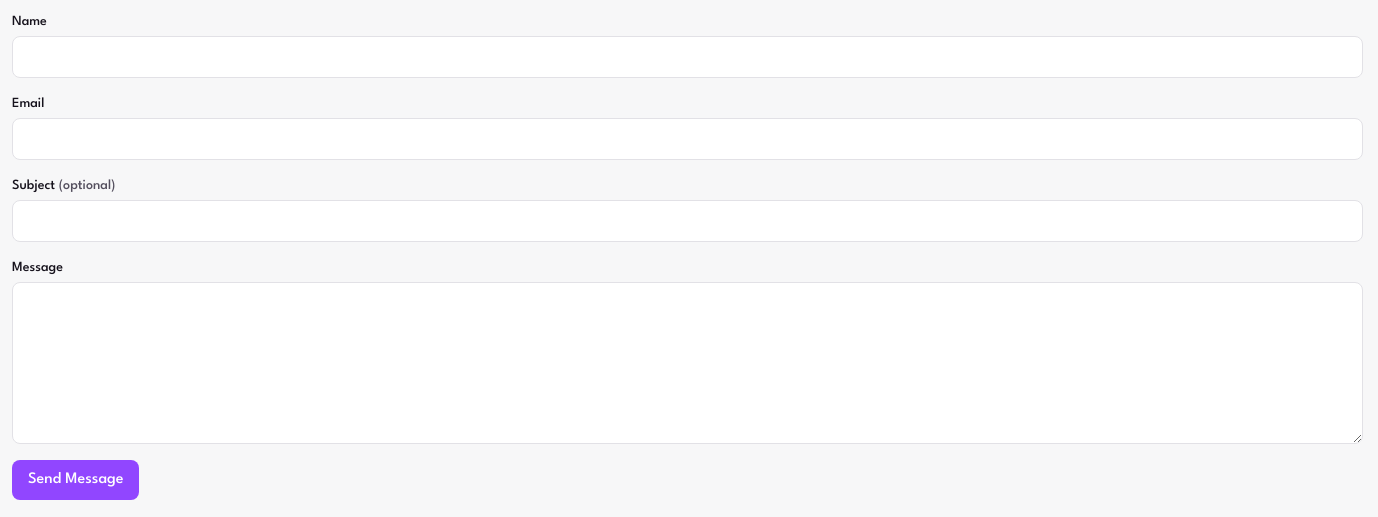
Scenario: ContactForm › shows 'Sending…', disables the button, and does NOT dim it via opacity while the submission is pending
Type "Ash Ketchum" into the field labelled "Name" at (688, 57), box [12,36,1363,78]
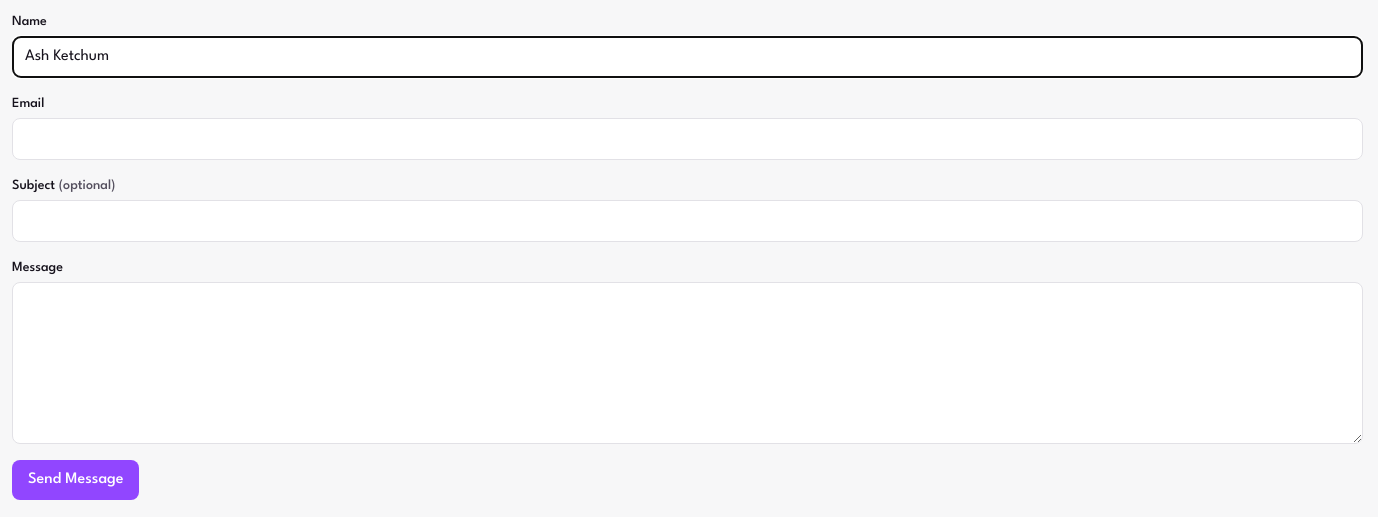
Type "ash@example.com" into the field labelled "Email" at (688, 139), box [12,118,1363,160]
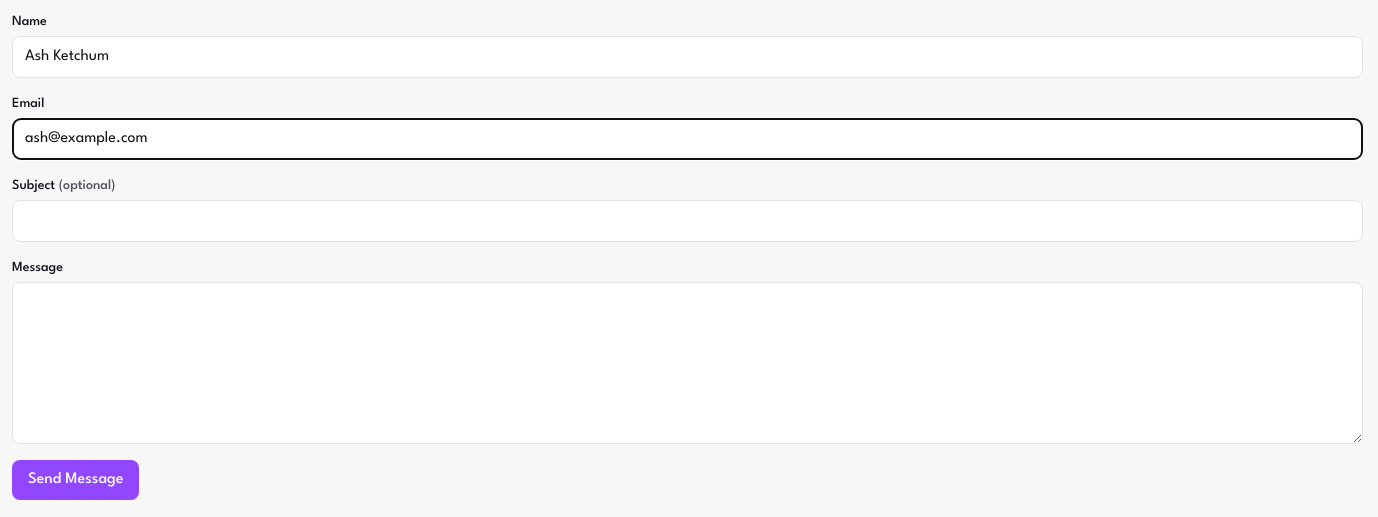
Type "I would like to buy this card, please let me know." into the text box labelled "Message" at (688, 363), box [12,282,1363,444]
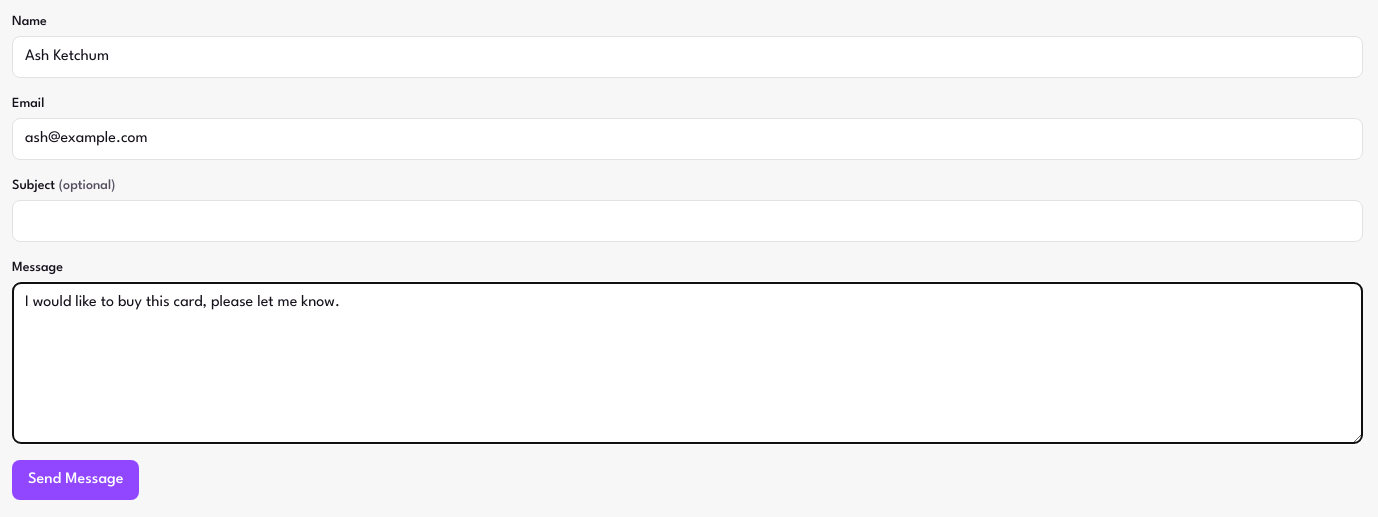
Click the button "Send Message" at (76, 480), box [12,460,140,500]
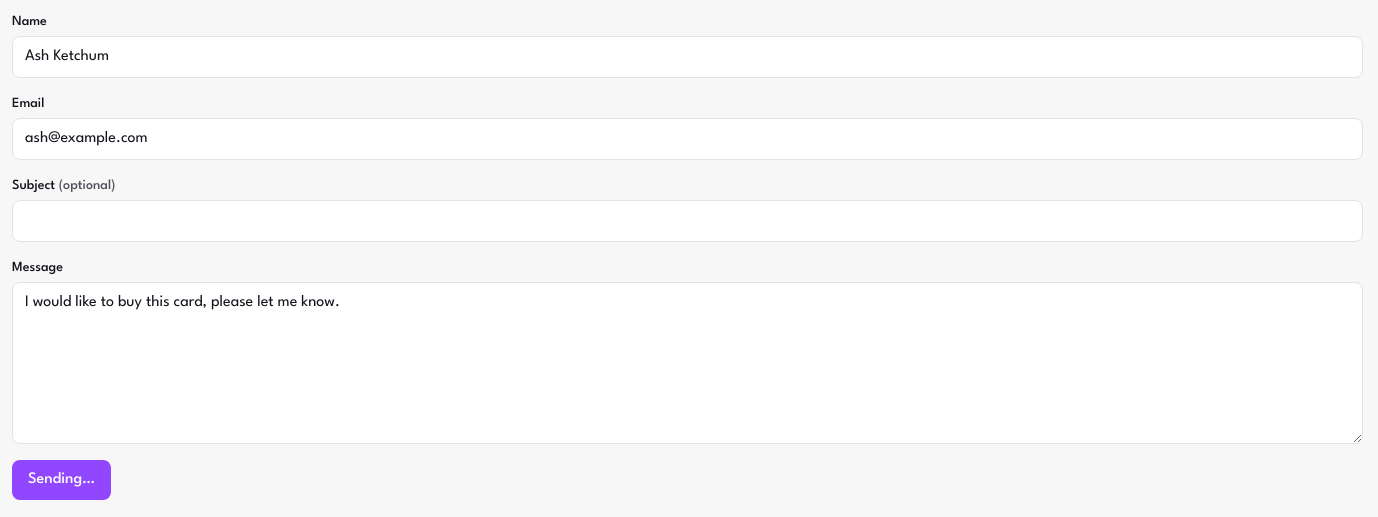
Now the button "Sending…" is disabled, box [12,460,111,500]
